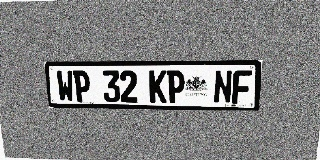2: (120, 70, 138, 103)
3: (102, 70, 120, 102)
F: (232, 70, 252, 104)
K: (149, 70, 167, 103)
N: (213, 70, 233, 104)
P: (167, 70, 185, 103), (73, 70, 91, 102)
W: (56, 70, 75, 102)
